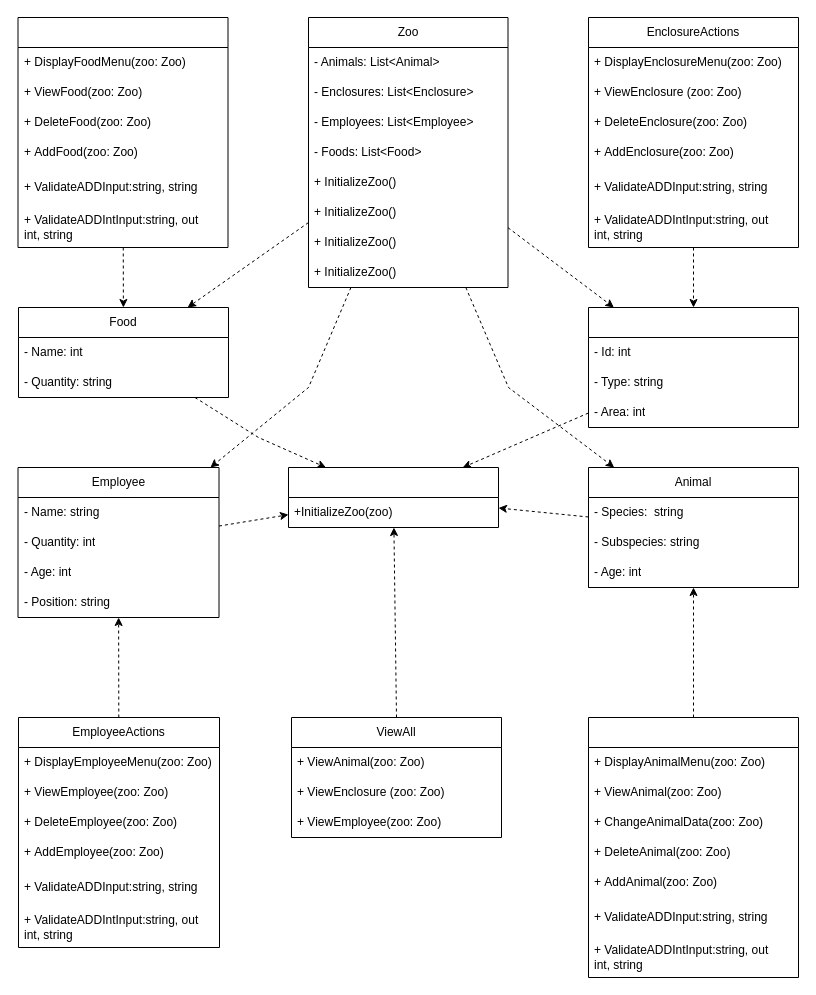
Some shapes in this 816 by 995 pixel diagram are drawn without their labels. Each missing label, with the box of its shape:
AnimalActions: (588, 716, 798, 978)
Enclosure: (588, 306, 798, 428)
FoodActions: (17, 16, 228, 248)
Main: (288, 466, 498, 528)
